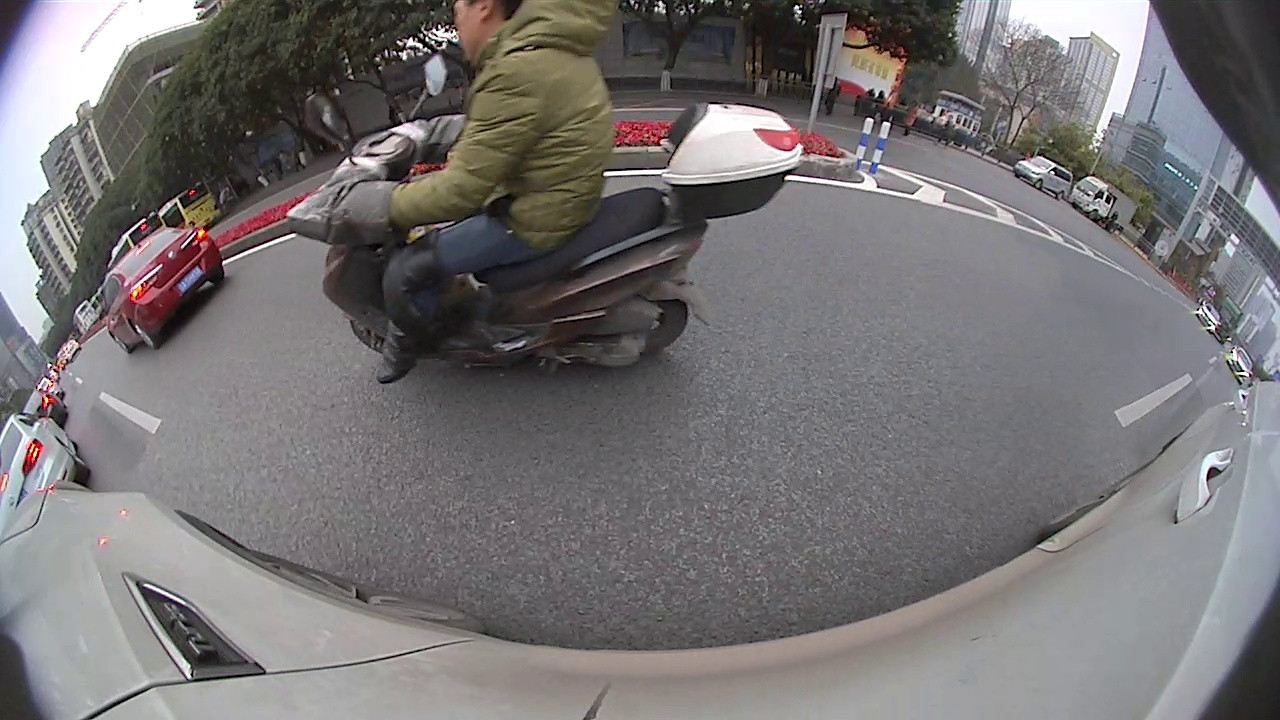bus: (107, 210, 172, 266), (156, 178, 222, 231)
car: (100, 223, 225, 357), (1, 410, 88, 515), (1012, 153, 1074, 202), (17, 385, 71, 424)
person: (904, 98, 917, 136), (943, 115, 953, 142)
rear: (603, 281, 689, 358)
rider: (280, 3, 807, 389)
truck: (1070, 173, 1138, 233)
